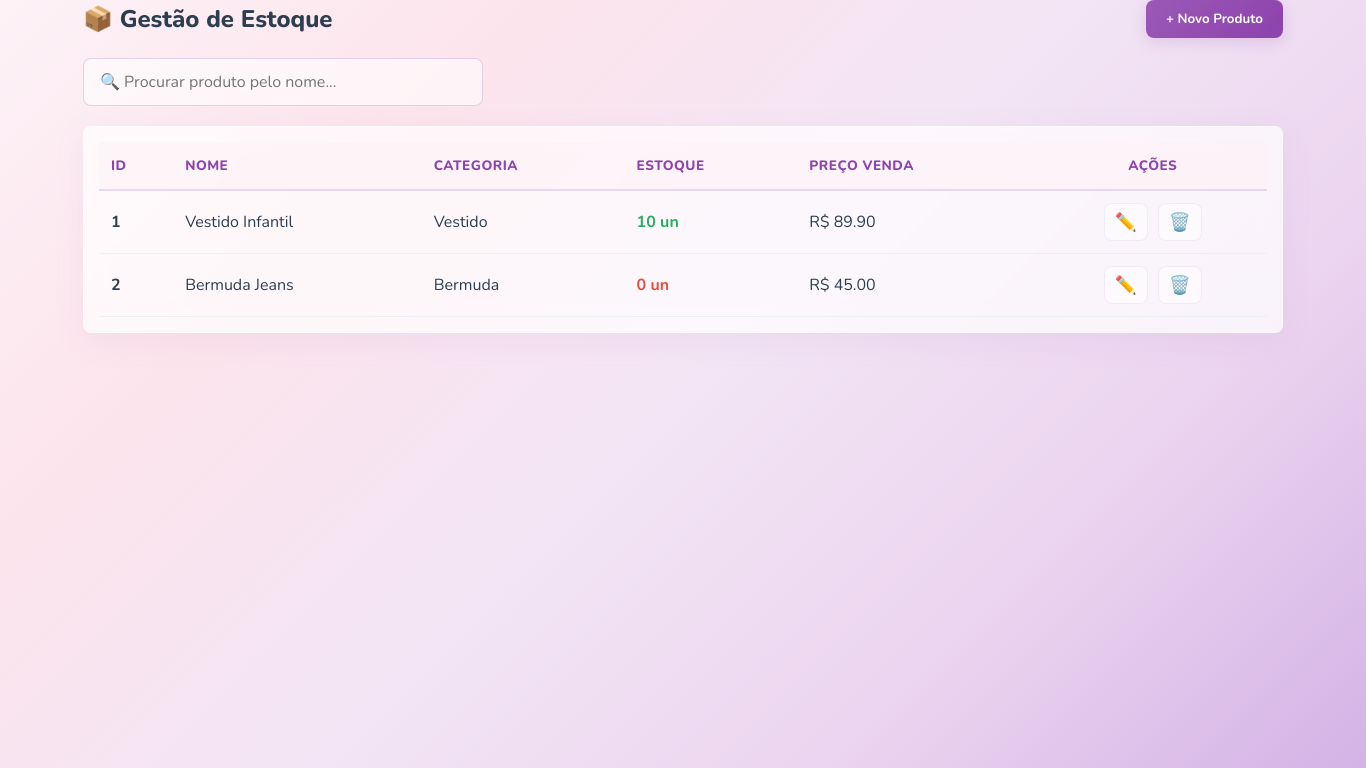
Componente Estoque - Testes de Interface › Deve deletar um produto após confirmação no modal
Click the button titled "Excluir Produto" in the row of "Vestido Infantil" at (1180, 222), box 1158,203 -> 1202,241
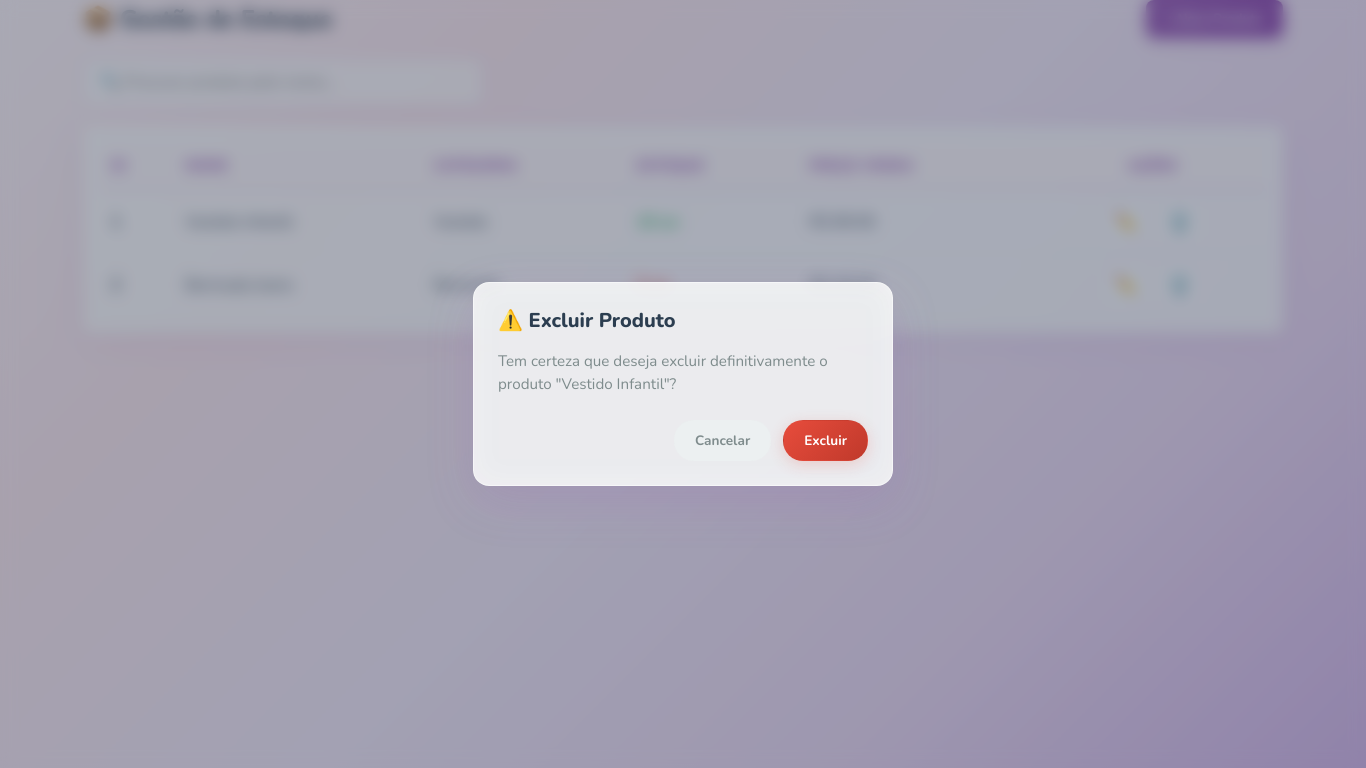
expect the element with test id "modal-confirmacao" is shown: met
Click the button "Excluir" at (826, 440), box 783,420 -> 868,461
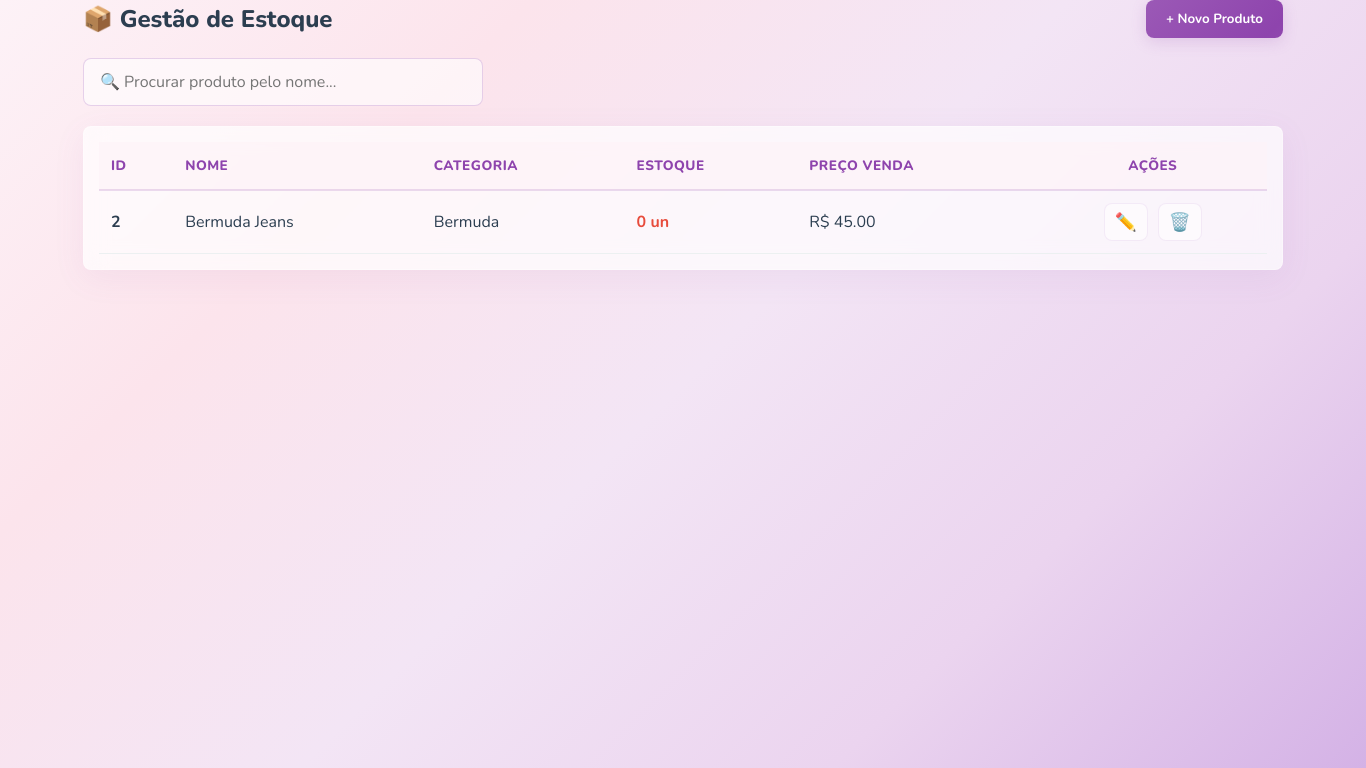
expect the text "Vestido Infantil" is gone: met
